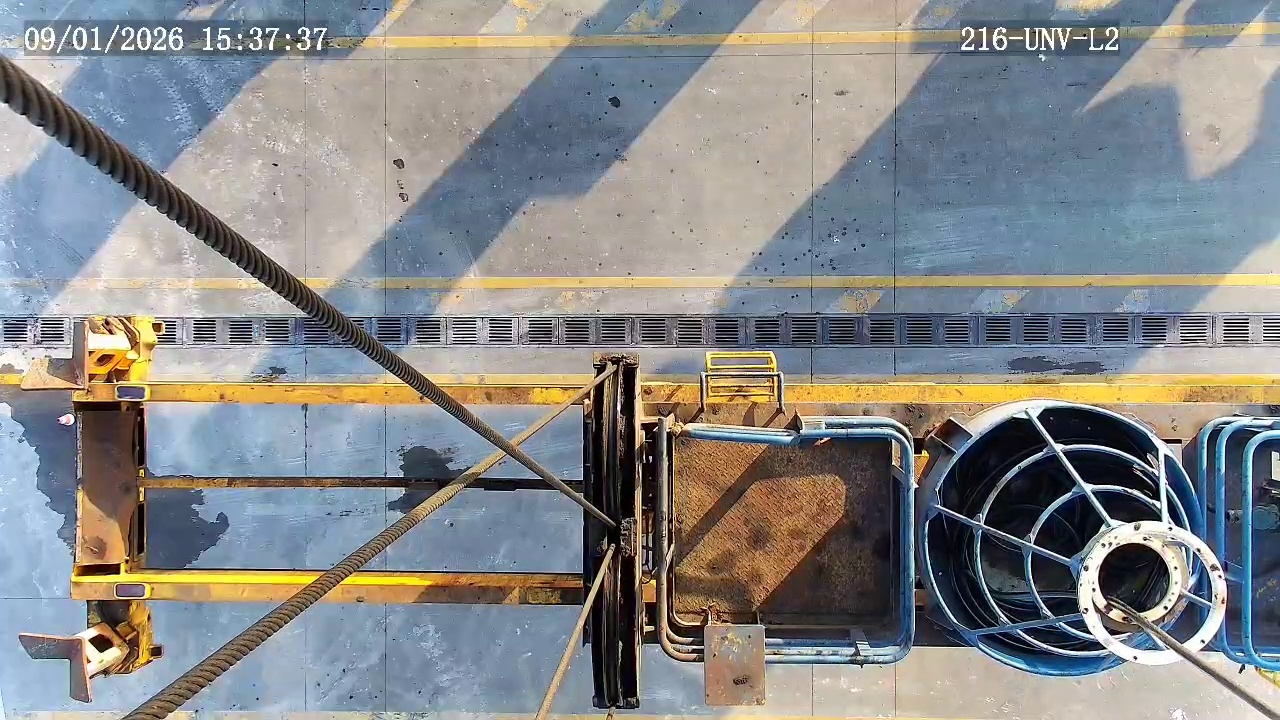left: (927, 405, 1206, 677)
